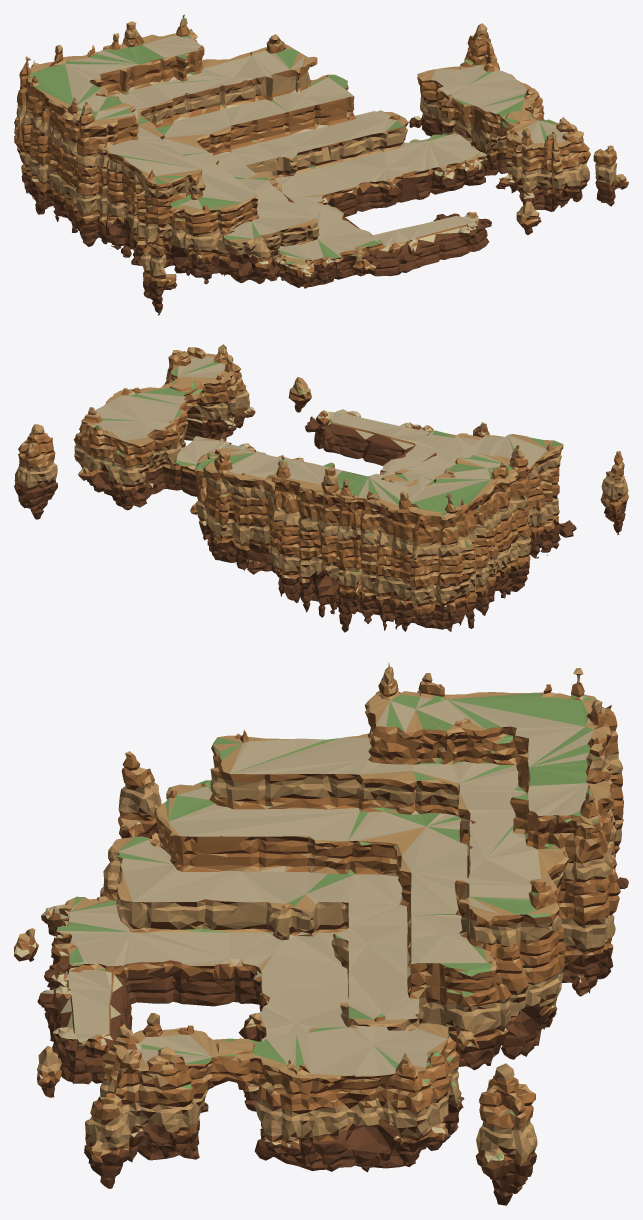
The model's file is island.glb.
3 renders of one model, top to bottom at view 1: azimuth 30°, elevation 25°; view 2: azimuth 150°, elevation 25°; view 3: azimuth 270°, elevation 25°, orthographic. The views are drawn at different scales.
Parts seen in each view (by area): view 1: LT_ISLAND; view 2: LT_ISLAND; view 3: LT_ISLAND.
Part boxes in pixels (x1=…): LT_ISLAND: x1=14, y1=14, x2=628, y2=315; LT_ISLAND: x1=14, y1=344, x2=628, y2=632; LT_ISLAND: x1=14, y1=662, x2=628, y2=1205.
Size of the model in its own units: 99.77 by 31.27 by 73.83.
